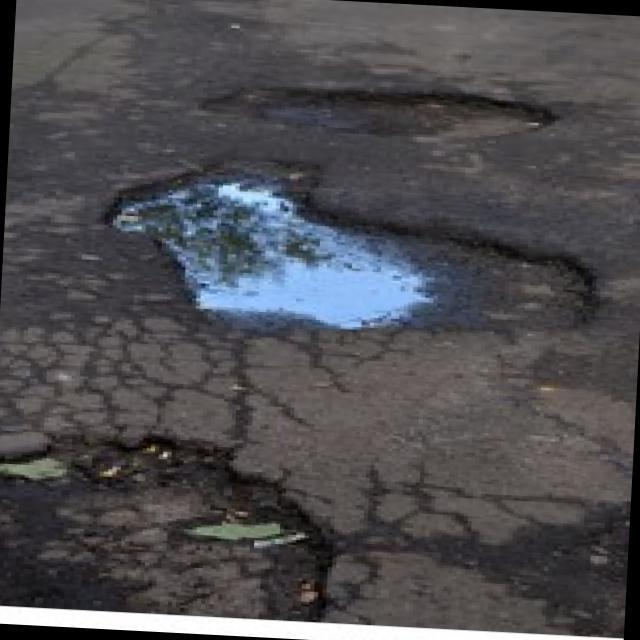pothole: (96, 149, 615, 348), (0, 422, 356, 624), (193, 77, 557, 149)
